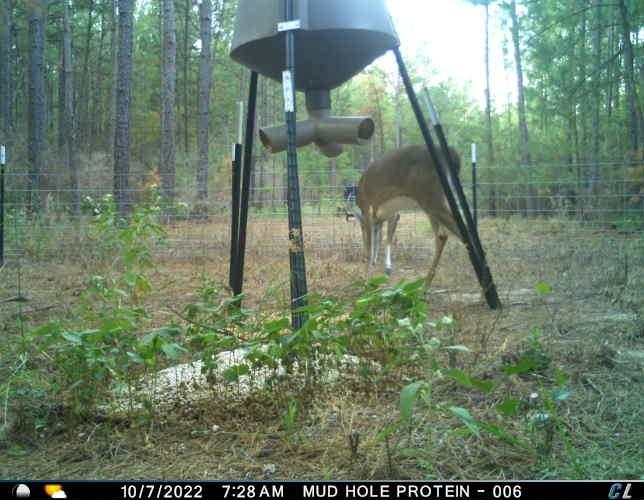Deer: (342, 143, 476, 298)
